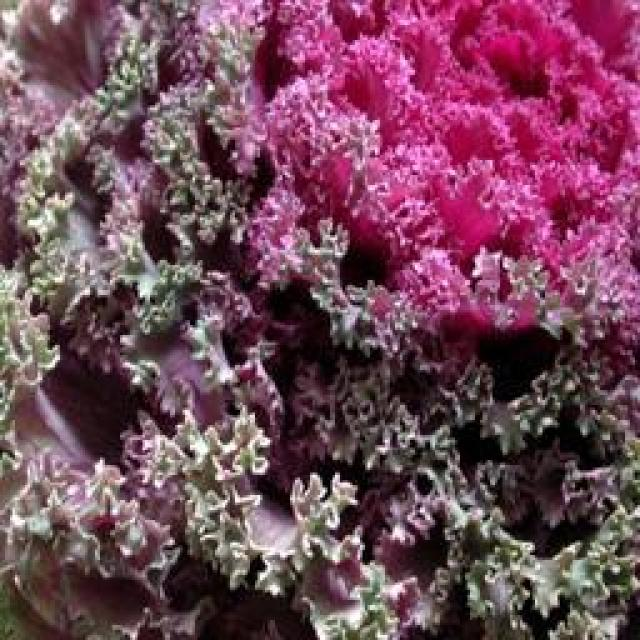reefs: (0, 0, 638, 638)
